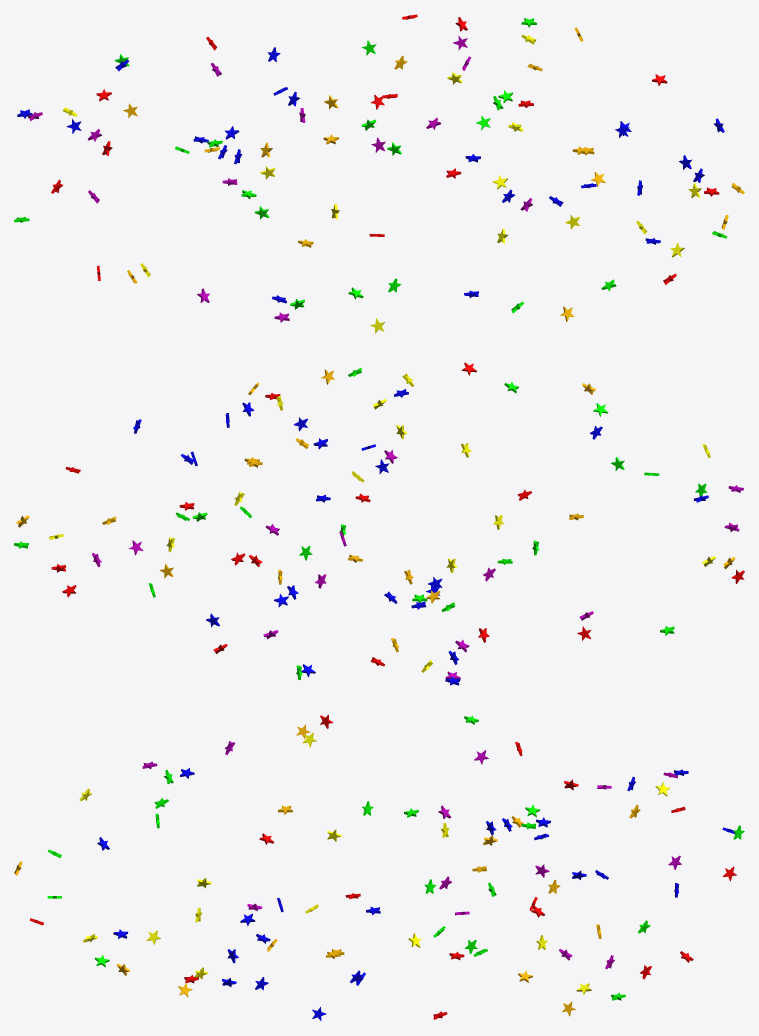
File: rainbow_round2.glb
3 views of the same model, one above another, from view 1: azimuth 30°, elevation 25°; view 2: azimuth 150°, elevation 25°; view 3: azimuth 270°, elevation 25° (orthographic). The views are drawn at different scales.
Size of the model in its own units: 2.71 by 0.0579 by 2.77.
